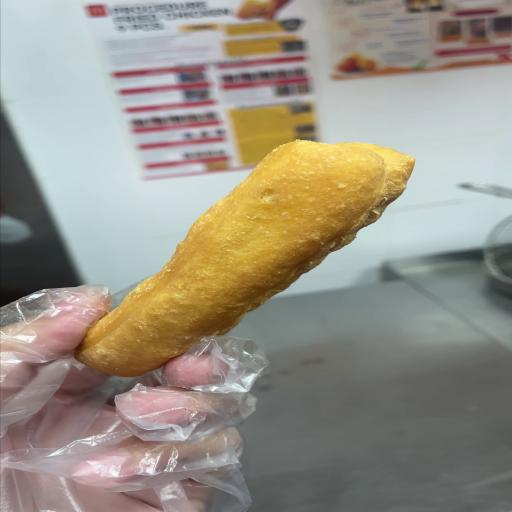brand_golden_good: (75, 140, 414, 377)
